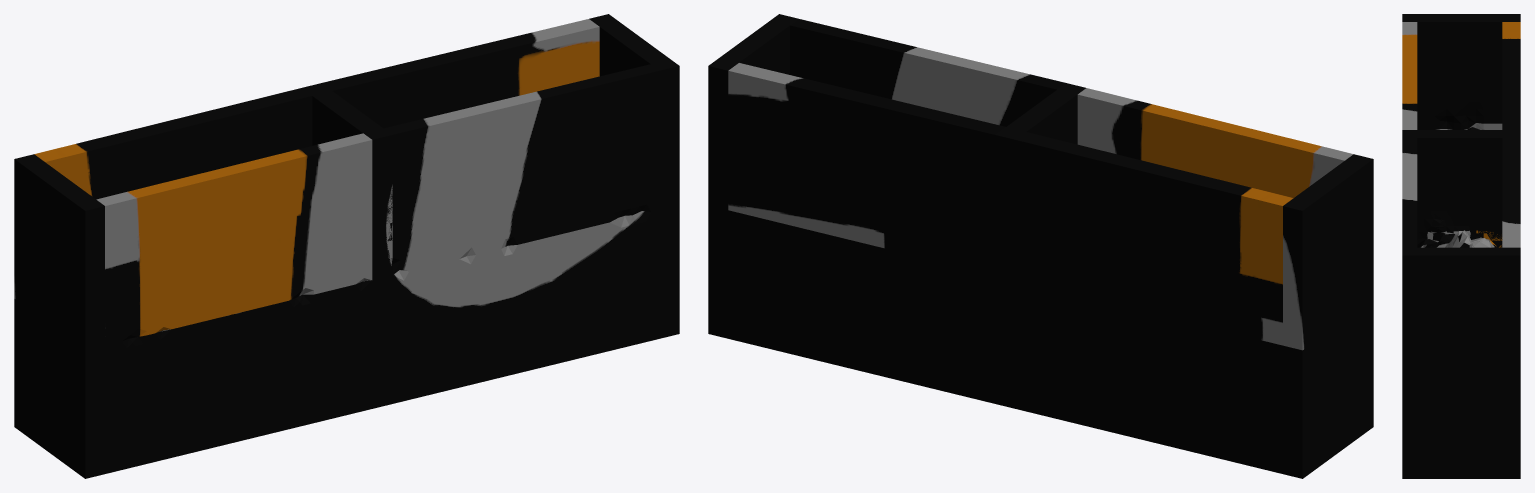
The model's file is DishwasherStation.fbx.
3 renders of one model, left to right at view 1: azimuth 30°, elevation 25°; view 2: azimuth 150°, elevation 25°; view 3: azimuth 270°, elevation 25°, orthographic. The views are drawn at different scales.
Visible parts, largest first — view 1: Cube; view 2: Cube; view 3: Cube.
Part boxes in pixels (x1,y1,x2,y2): Cube: (14,14,679,478); Cube: (708,14,1373,478); Cube: (1402,14,1520,478).
Size of the model in its own units: 968 by 419 by 200.
1 material, 1 textured.
